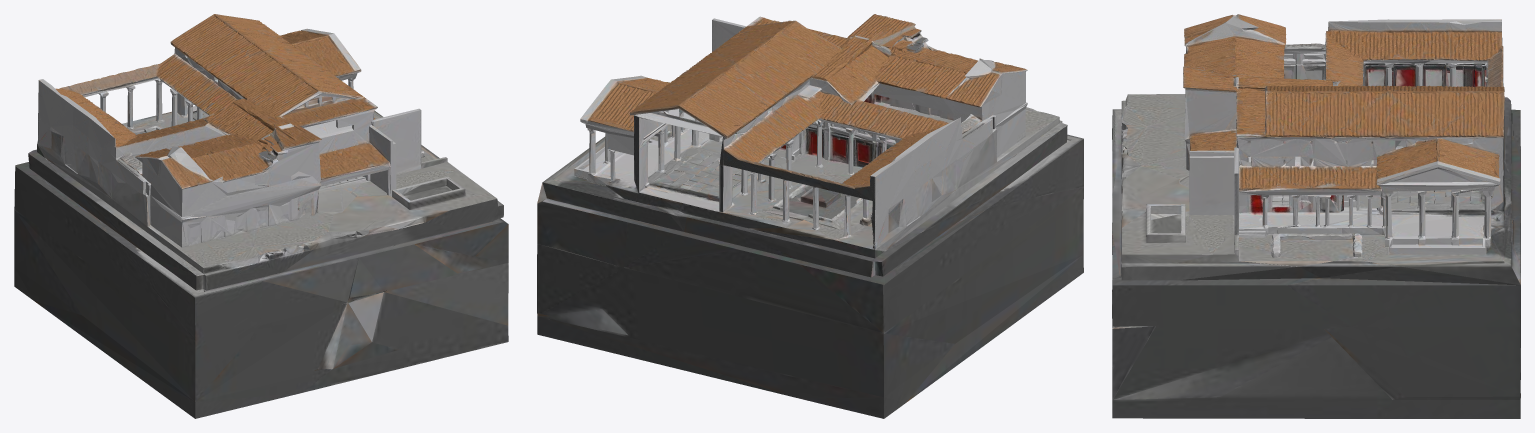
Rendered from domus_model_besancon_a.meshy.reduced.glb.
The picture shows the model from 3 angles, left to right: view 1: azimuth 30°, elevation 25°; view 2: azimuth 150°, elevation 25°; view 3: azimuth 270°, elevation 25°; orthographic projection. The views are drawn at different scales.
Size of the model in its own units: 1.9 by 1.34 by 1.9.
1 material, 1 textured.
